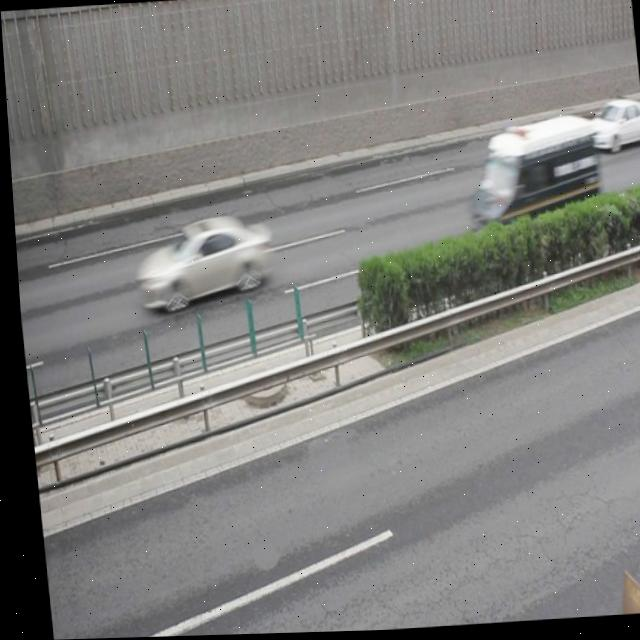car: (126, 212, 270, 313), (584, 97, 640, 156)
truck: (459, 114, 598, 230)
